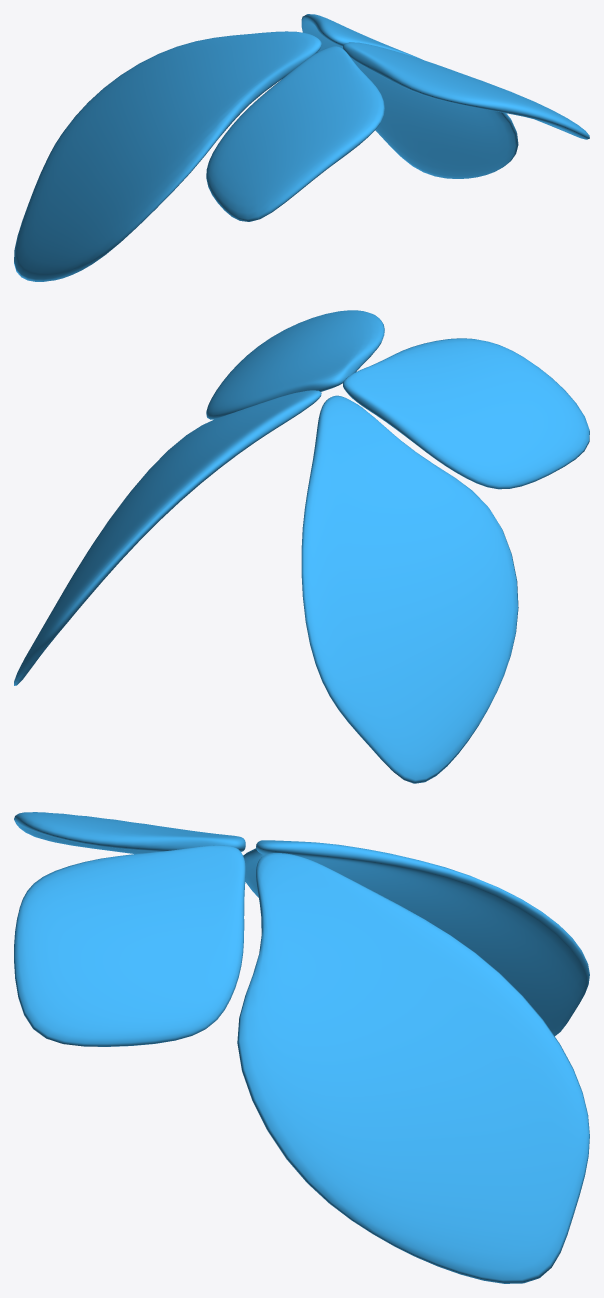
The model's file is MARIPOSA2.fbx.
The picture shows the model from 3 angles, top to bottom: view 1: azimuth 30°, elevation 25°; view 2: azimuth 150°, elevation 25°; view 3: azimuth 270°, elevation 25°; orthographic projection. The views are drawn at different scales.
Visible parts, largest first — view 1: Plane; view 2: Plane; view 3: Plane.
Part boxes in pixels (x1=…): Plane: x1=14, y1=14, x2=589, y2=281; Plane: x1=14, y1=310, x2=589, y2=783; Plane: x1=14, y1=812, x2=589, y2=1283.
Size of the model in its own units: 306 by 182 by 296.
